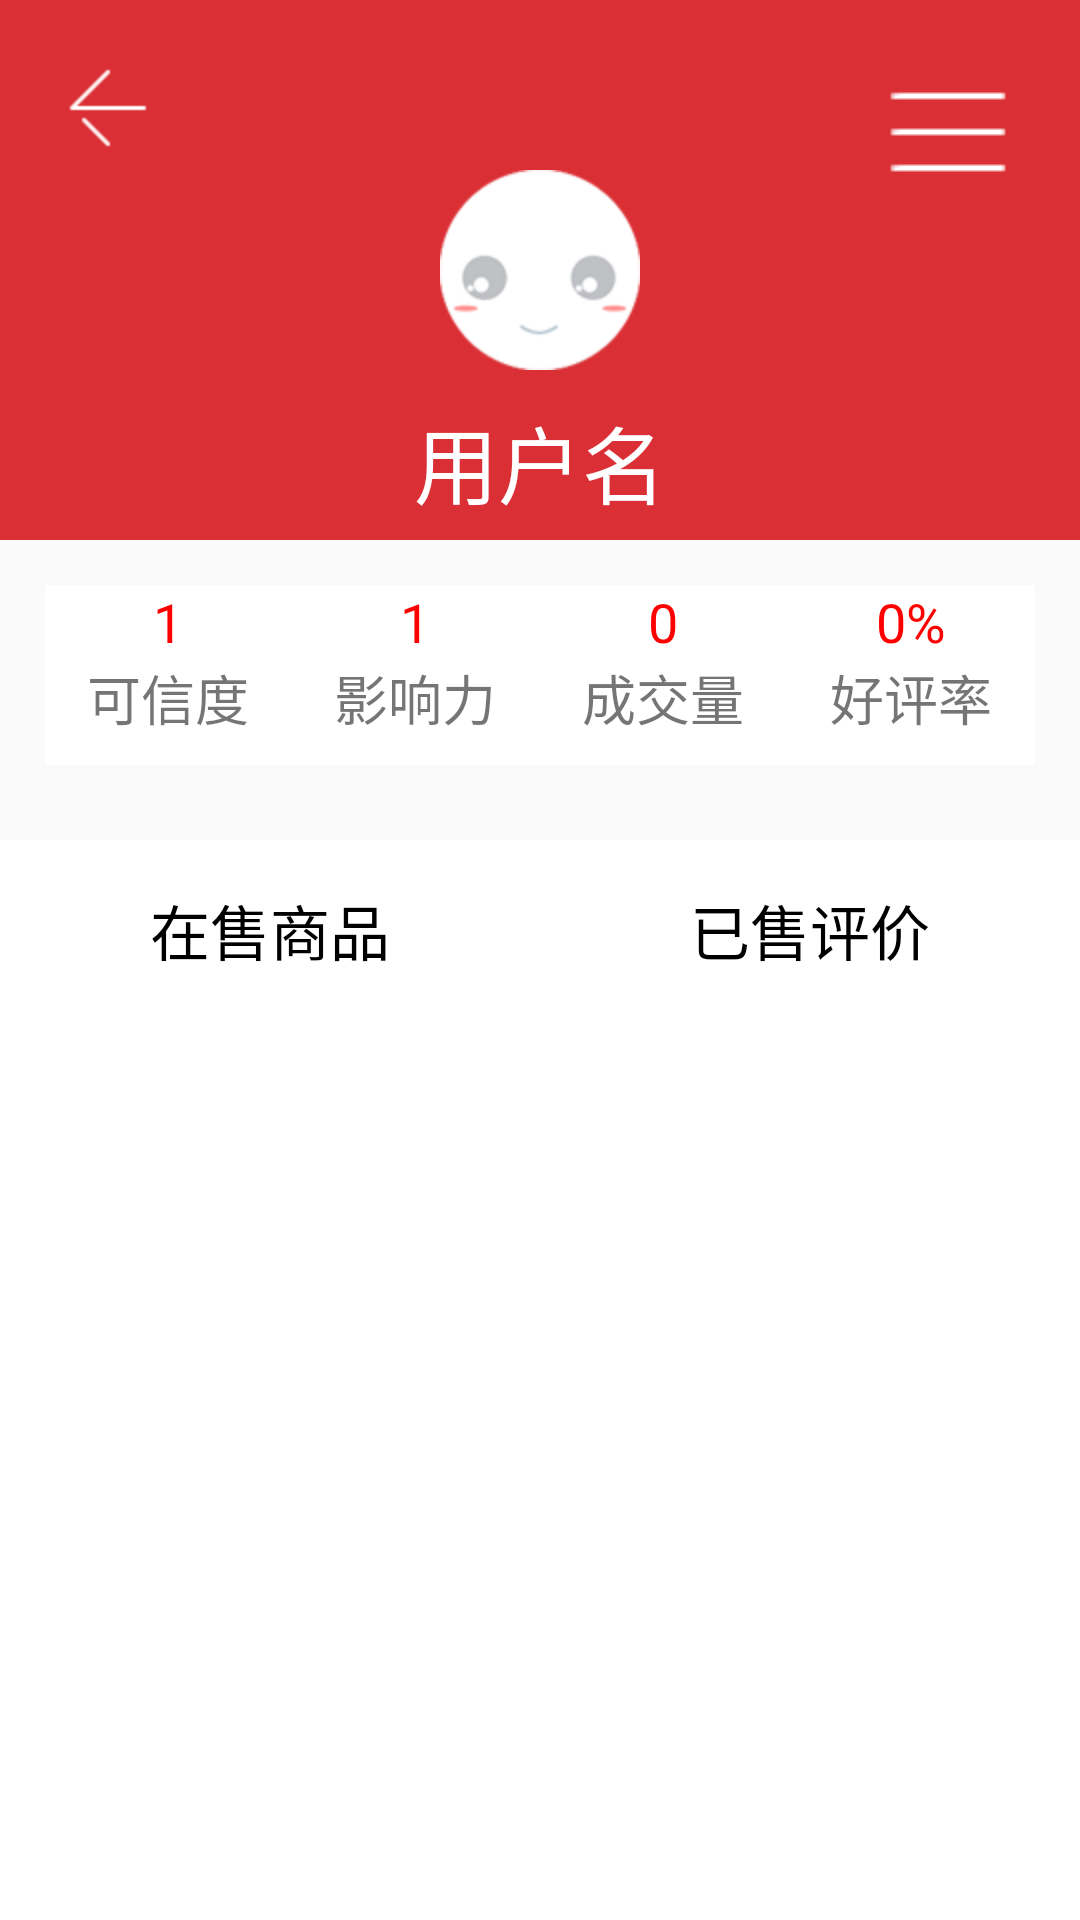

Icons on this 1080*1920 Android screen, each with its box as (x1=x1, y1=y1, x2=x2, y2=y2):
avatr: (x1=440, y1=170, x2=640, y2=370)
back off: (x1=69, y1=69, x2=147, y2=147)
goods menu: (x1=890, y1=92, x2=1006, y2=172)
